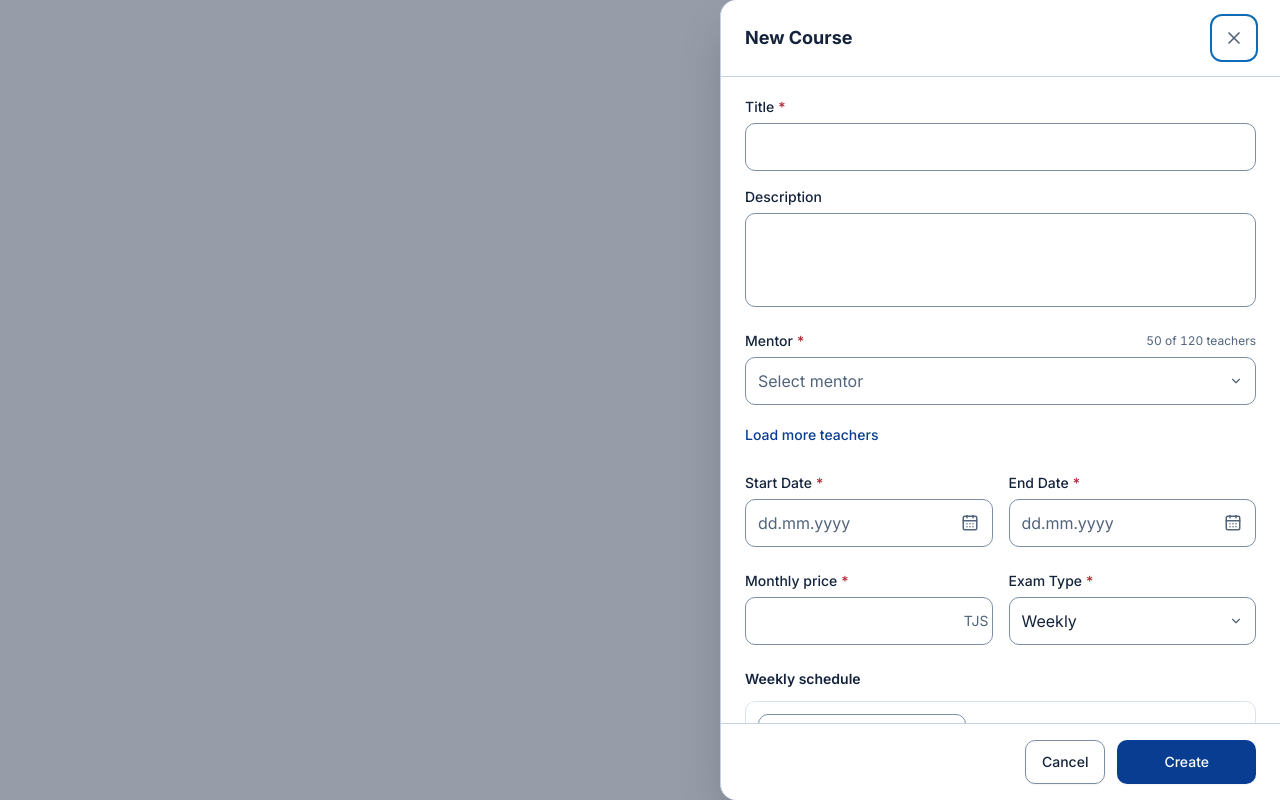
Test: paginates mentors across pages for >100 mentors, exhausting load more on final page while preserving selection
Check: the text "50 of 120 teachers" is shown, box [1146,333,1256,349]
Click the button "Select mentor". click: [811, 381]
box: [745,357,1256,405]
(page scrolled)
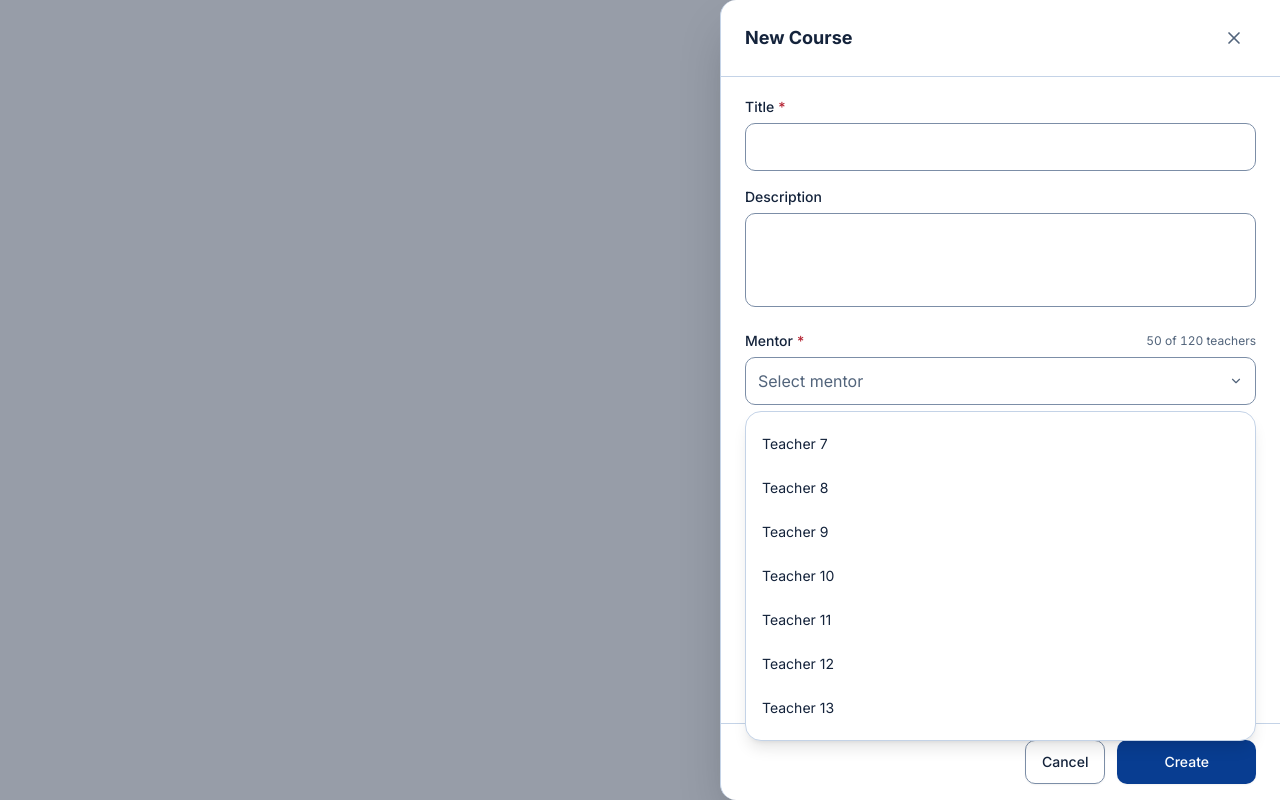
Click the option "Teacher 10". click: [798, 576]
box: [750,554,1251,598]
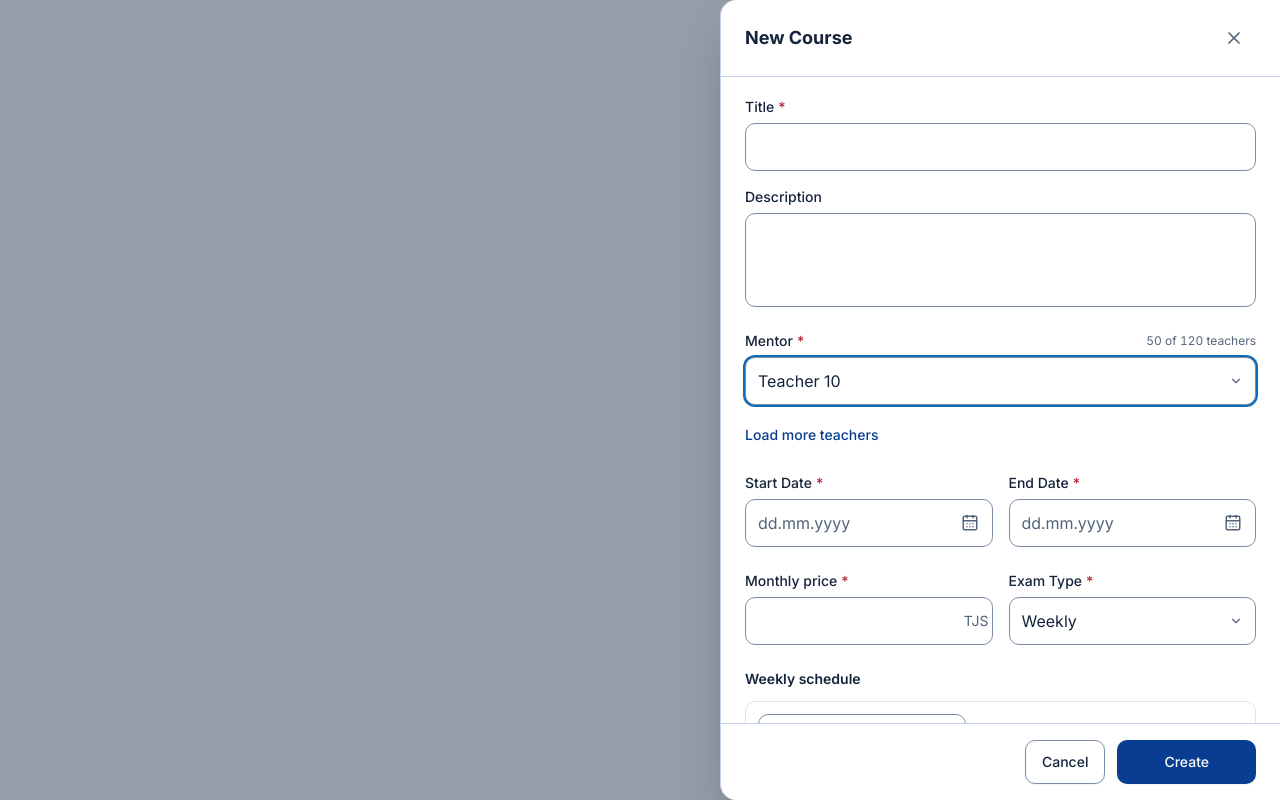
Check: the button with aria-label "Mentor" reads "Teacher 10", box [745,357,1256,405]
Click the button "Load more teachers". click: [812, 435]
box: [745,413,878,457]
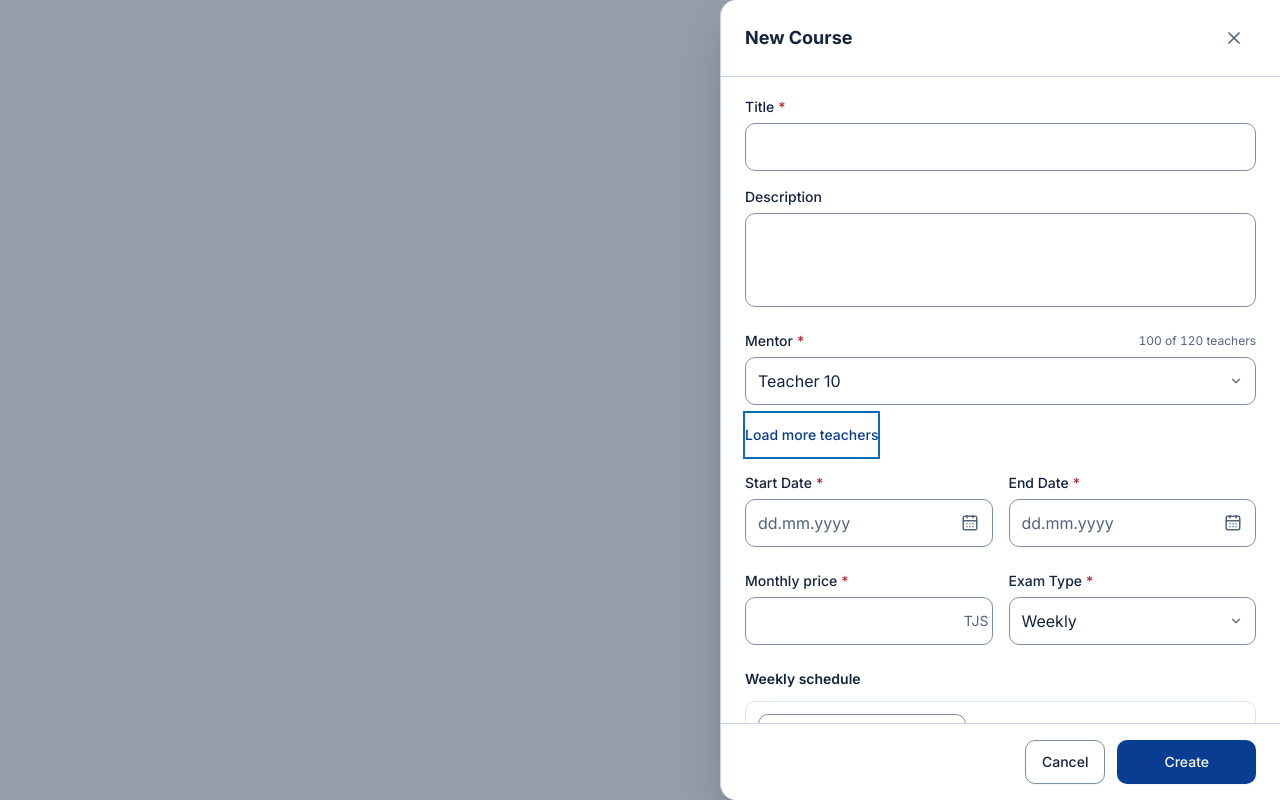
Check: the button with aria-label "Mentor" reads "Teacher 10", box [745,357,1256,405]
Check: the text "100 of 120 teachers" is shown, box [1138,333,1256,349]
Click the button "Load more teachers". click: [812, 435]
box: [745,413,878,457]
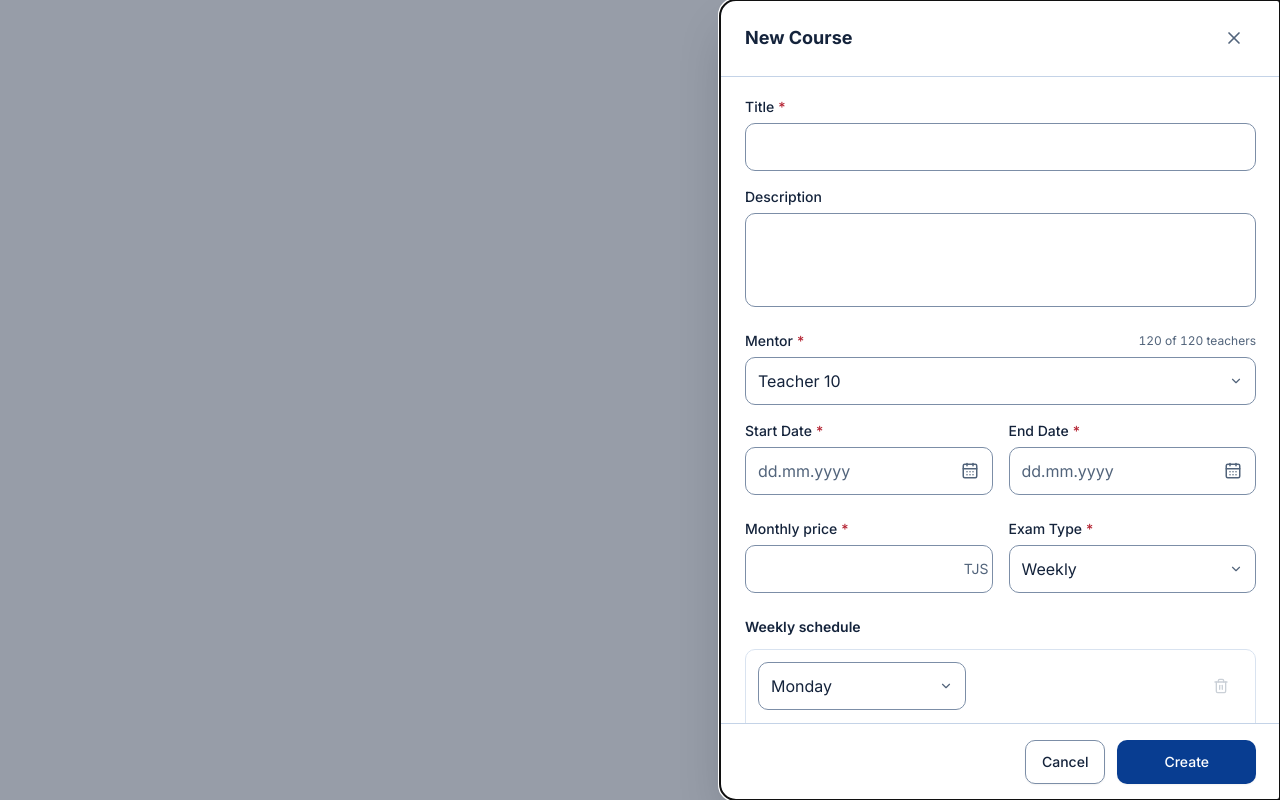
Check: the button with aria-label "Mentor" reads "Teacher 10", box [745,357,1256,405]
Check: the text "120 of 120 teachers" is shown, box [1138,333,1256,349]
Check: the button "Load more teachers" is gone
